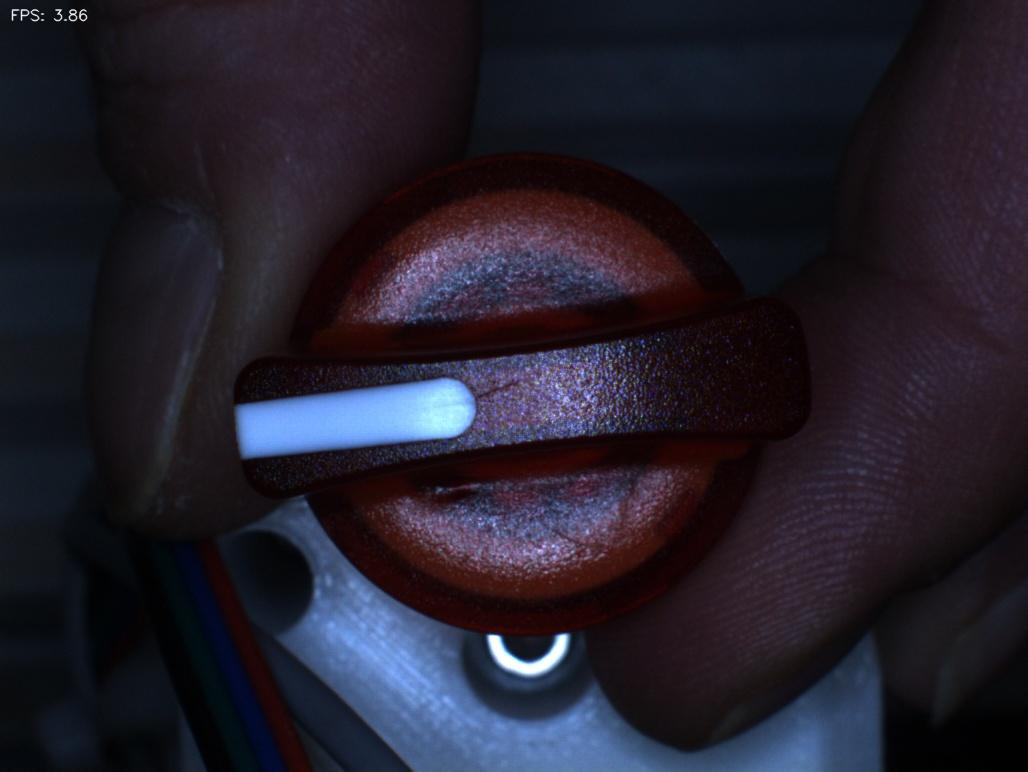Choc: (401, 458, 487, 534)
